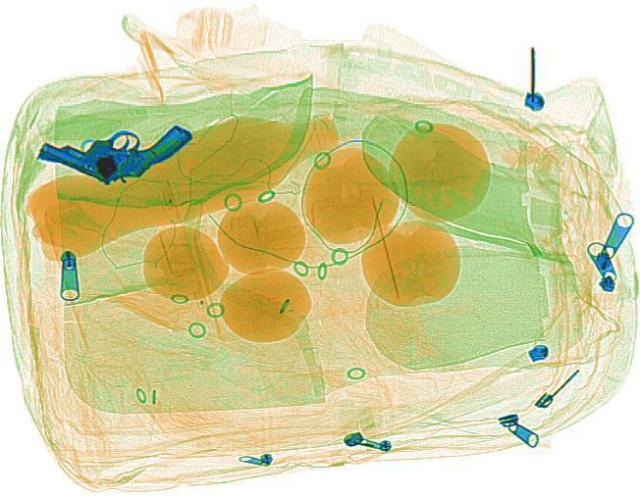Gun: (33, 119, 189, 185)
